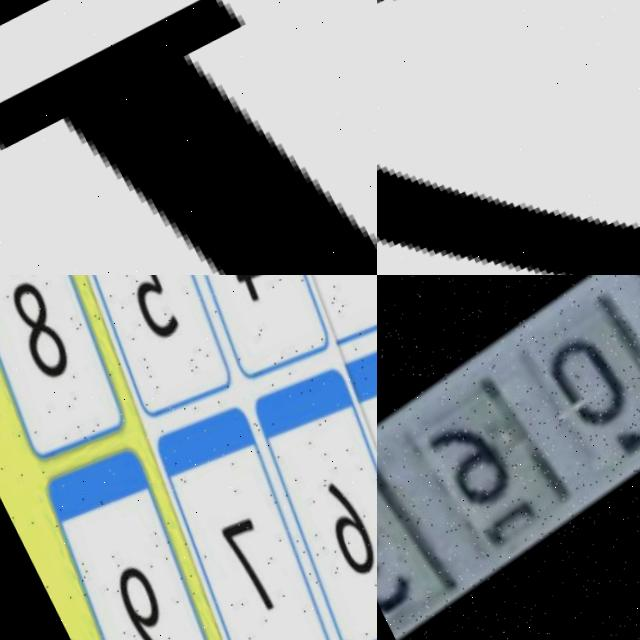0: (520, 314, 640, 460)
2: (377, 0, 640, 275)
3: (377, 497, 431, 629)
4: (195, 275, 290, 320)
5: (98, 275, 189, 355)
6: (406, 390, 532, 532), (294, 468, 377, 592)
7: (196, 506, 287, 625)
8: (0, 275, 80, 390)
9: (87, 550, 182, 640)
L: (0, 0, 377, 275)
